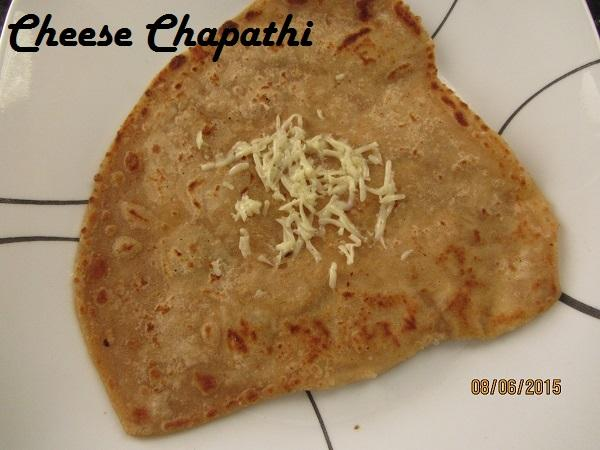chapati: (74, 2, 560, 435)
